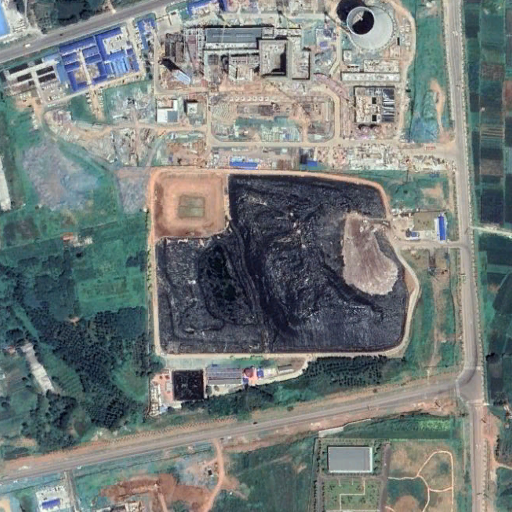lf: (151, 171, 419, 362)
